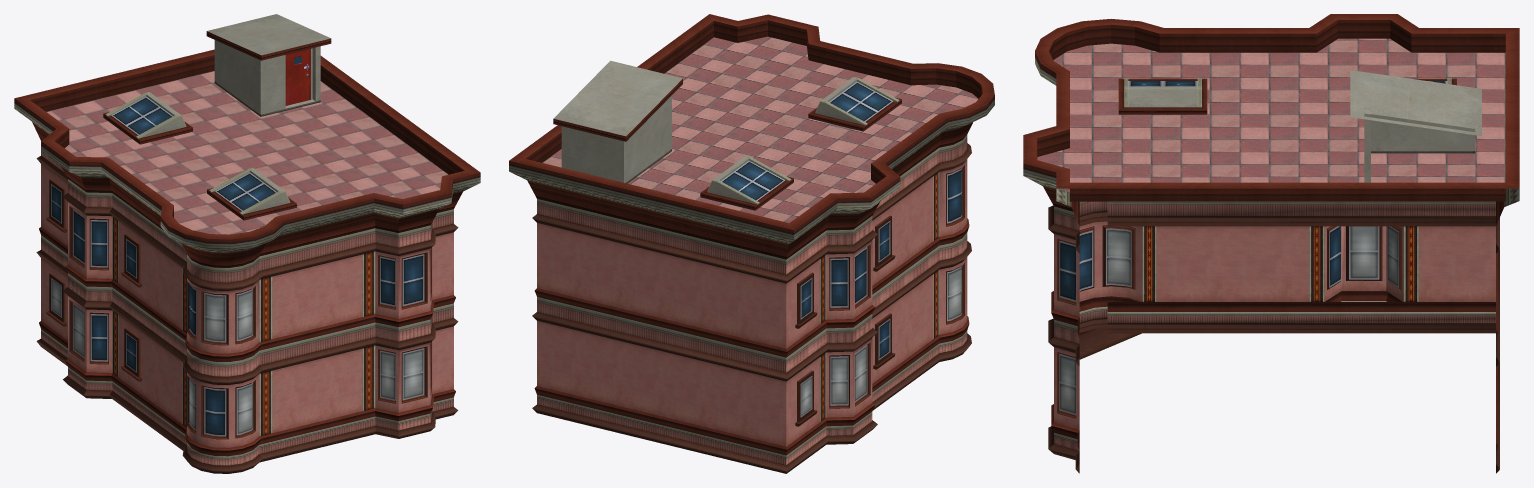
File: MhouseB.fbx
The picture shows the model from 3 angles, left to right: view 1: azimuth 30°, elevation 25°; view 2: azimuth 150°, elevation 25°; view 3: azimuth 270°, elevation 25°; orthographic projection. The views are drawn at different scales.
Visible parts, largest first — view 1: ct2_01_n1_ks2_MhouseB_11; view 2: ct2_01_n1_ks2_MhouseB_11; view 3: ct2_01_n1_ks2_MhouseB_11.
Part boxes in pixels (x1=…): ct2_01_n1_ks2_MhouseB_11: x1=14, y1=14, x2=480, y2=473; ct2_01_n1_ks2_MhouseB_11: x1=509, y1=14, x2=994, y2=473; ct2_01_n1_ks2_MhouseB_11: x1=1023, y1=14, x2=1519, y2=473.
Size of the model in its own units: 1637 by 1562 by 1967.
